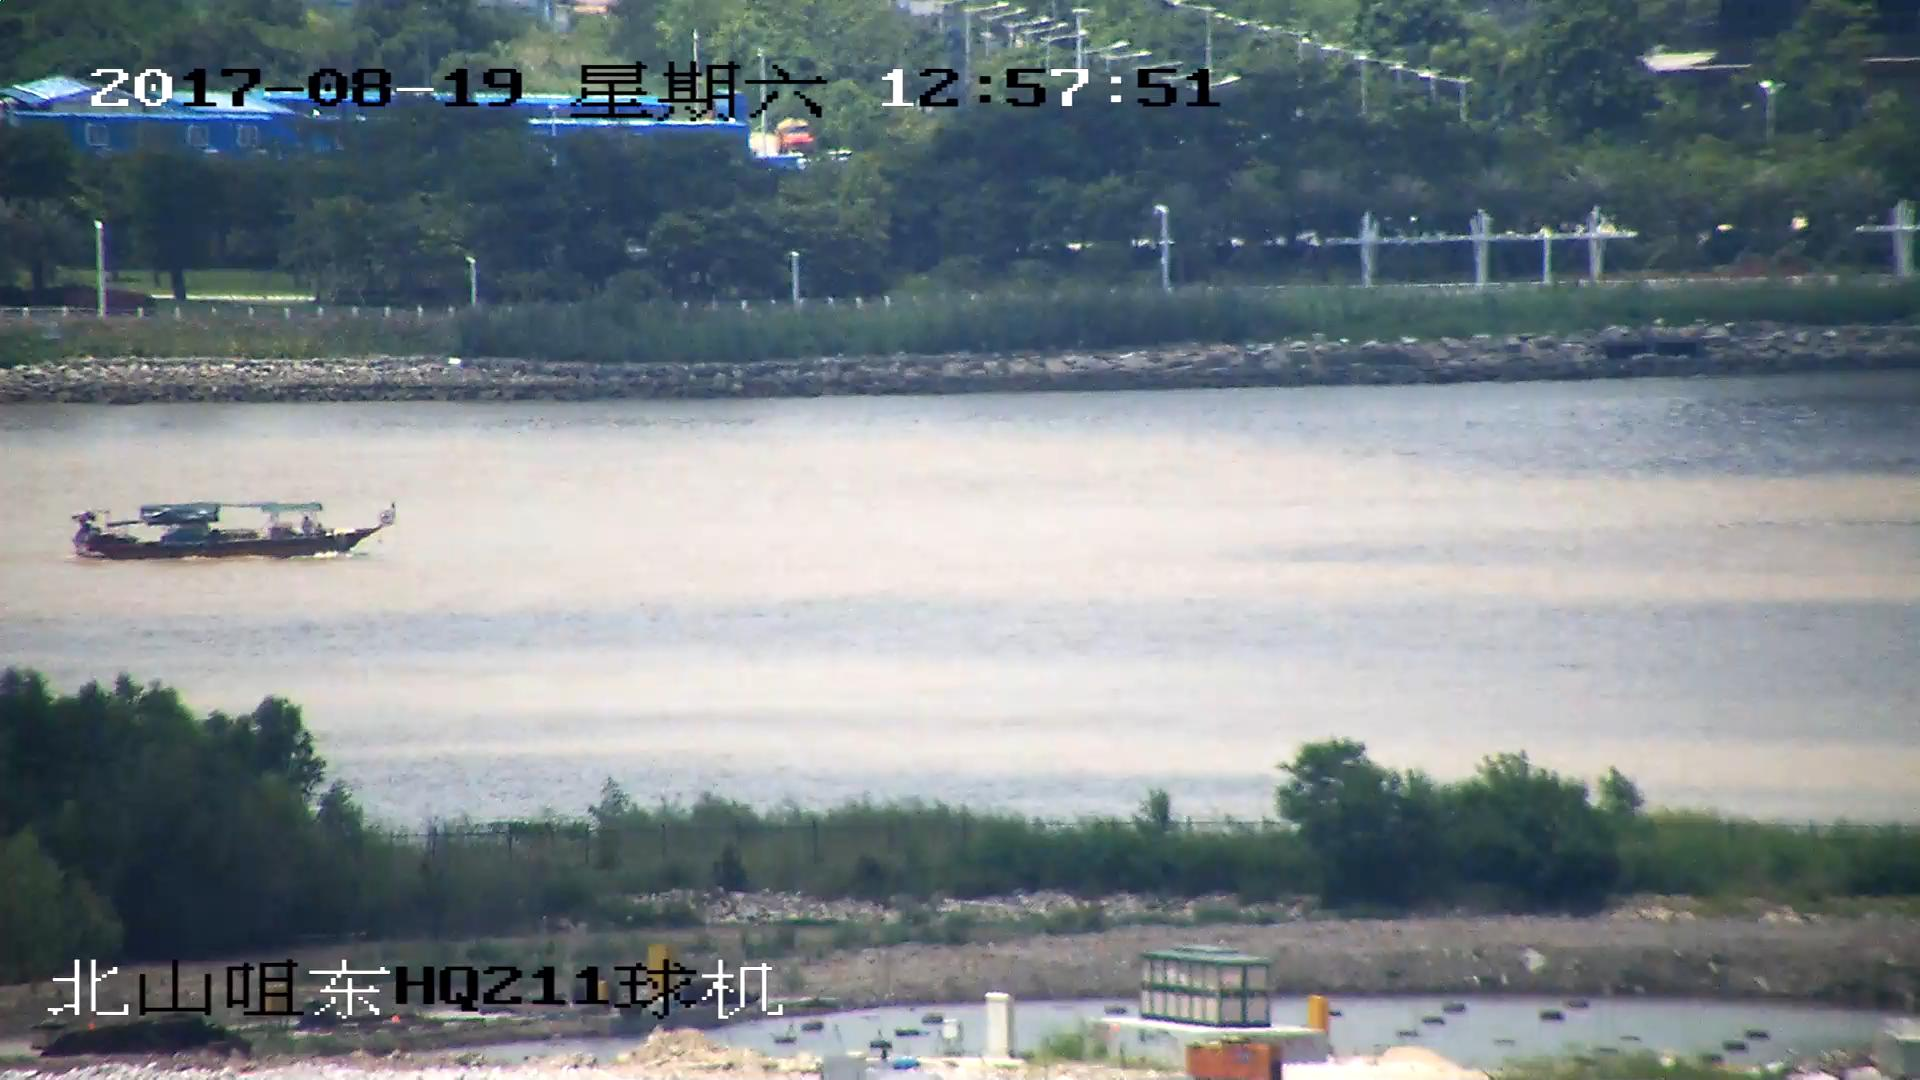fishing boat: (70, 494, 386, 561)
